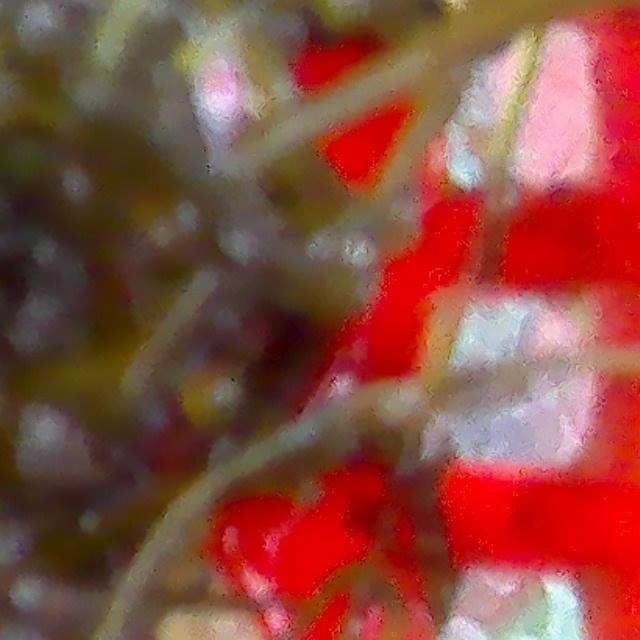SeaGrape: (0, 0, 98, 76), (13, 407, 90, 495)
